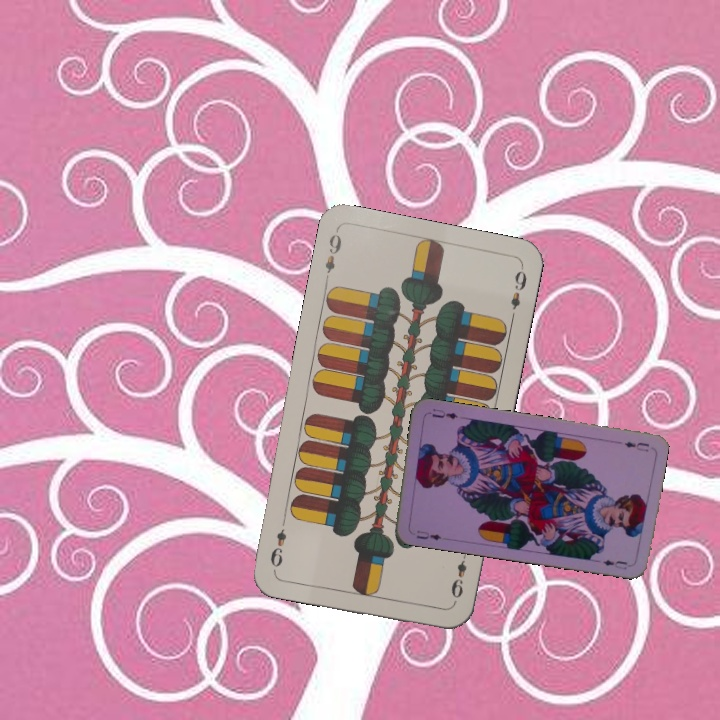E9: (320, 230, 344, 286), (447, 548, 470, 601)
EU: (413, 526, 444, 543), (620, 437, 651, 454)
